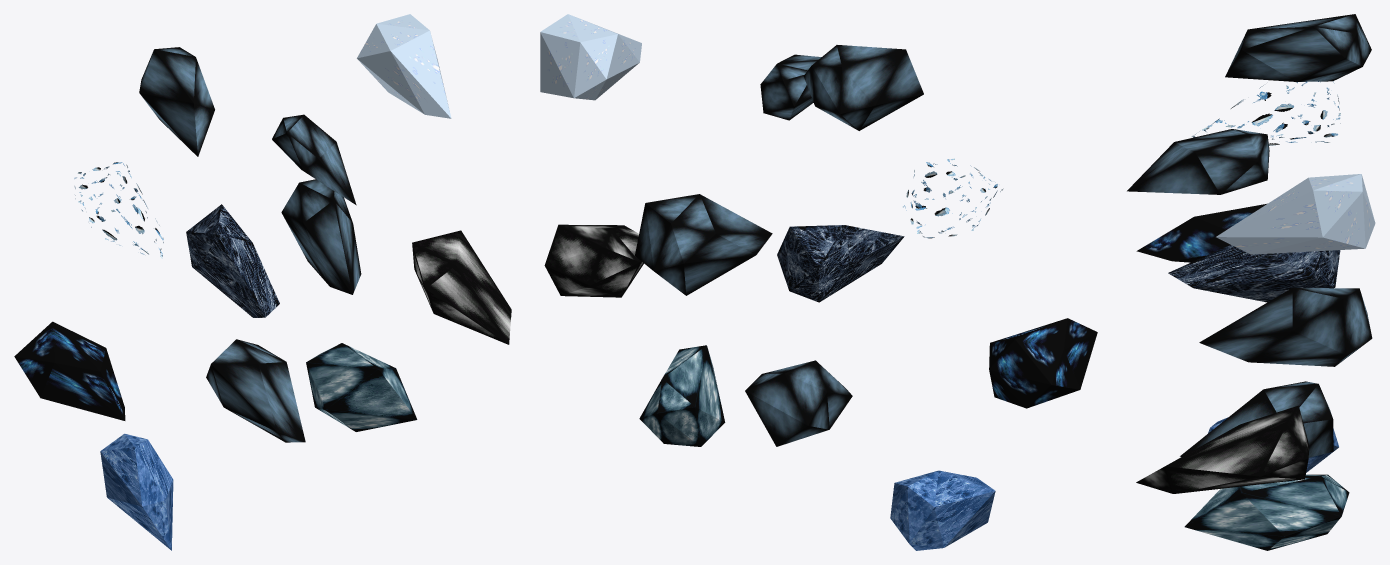
Rendered from tx_necromancer_bingshanzhuiluo_fire.obj.
3 renders of one model, left to right at view 1: azimuth 30°, elevation 25°; view 2: azimuth 150°, elevation 25°; view 3: azimuth 270°, elevation 25°, orthographic. The views are drawn at different scales.
Parts seen in each view (by area): view 1: GeoSphere02#1, GeoSphere02#02, GeoSphere02#08, GeoSphere02#09, GeoSphere02#06, GeoSphere02#10, GeoSphere02#11, GeoSphere02#07, GeoSphere02#04, GeoSphere02#05, GeoSphere02#03; view 2: GeoSphere02#11, GeoSphere02#04, GeoSphere02#08, GeoSphere02#10, GeoSphere02#06, GeoSphere02#07, GeoSphere02#1, GeoSphere02#09, GeoSphere02#02, GeoSphere02#05, GeoSphere02#03; view 3: GeoSphere02#11, GeoSphere02#06, GeoSphere02#1, GeoSphere02#02, GeoSphere02#04, GeoSphere02#05, GeoSphere02#10, GeoSphere02#09, GeoSphere02#08, GeoSphere02#03, GeoSphere02#07.
Part boxes in pixels (left/top/right/bottom): GeoSphere02#1: left=412, top=230, right=511, bottom=344; GeoSphere02#02: left=306, top=343, right=417, bottom=431; GeoSphere02#08: left=14, top=321, right=125, bottom=420; GeoSphere02#09: left=206, top=339, right=305, bottom=442; GeoSphere02#06: left=357, top=14, right=451, bottom=118; GeoSphere02#10: left=186, top=204, right=279, bottom=317; GeoSphere02#11: left=281, top=179, right=361, bottom=294; GeoSphere02#07: left=100, top=433, right=173, bottom=550; GeoSphere02#04: left=139, top=47, right=214, bottom=156; GeoSphere02#05: left=272, top=114, right=356, bottom=205; GeoSphere02#03: left=74, top=162, right=163, bottom=258; GeoSphere02#11: left=635, top=194, right=772, bottom=295; GeoSphere02#04: left=803, top=45, right=923, bottom=130; GeoSphere02#08: left=989, top=318, right=1097, bottom=408; GeoSphere02#10: left=777, top=225, right=904, bottom=302; GeoSphere02#06: left=540, top=14, right=641, bottom=100; GeoSphere02#07: left=890, top=470, right=995, bottom=550; GeoSphere02#1: left=544, top=224, right=643, bottom=297; GeoSphere02#09: left=745, top=360, right=852, bottom=446; GeoSphere02#02: left=639, top=345, right=725, bottom=446; GeoSphere02#05: left=760, top=54, right=821, bottom=120; GeoSphere02#03: left=902, top=158, right=1003, bottom=238; GeoSphere02#11: left=1199, top=288, right=1372, bottom=366; GeoSphere02#06: left=1216, top=174, right=1375, bottom=254; GeoSphere02#1: left=1136, top=405, right=1308, bottom=493; GeoSphere02#02: left=1184, top=474, right=1349, bottom=550; GeoSphere02#04: left=1225, top=14, right=1371, bottom=81; GeoSphere02#05: left=1127, top=129, right=1269, bottom=194; GeoSphere02#10: left=1168, top=244, right=1340, bottom=302; GeoSphere02#09: left=1180, top=381, right=1333, bottom=457; GeoSphere02#08: left=1136, top=203, right=1267, bottom=262; GeoSphere02#03: left=1191, top=81, right=1340, bottom=145; GeoSphere02#07: left=1208, top=417, right=1338, bottom=472.
Bounding box in the file's own units: 323 × 297 × 136.
